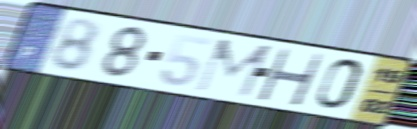0: (314, 58, 364, 113)
5: (158, 32, 214, 88)
8: (47, 17, 101, 73), (99, 23, 151, 80)
H: (254, 46, 327, 108)
M: (192, 37, 275, 100)
